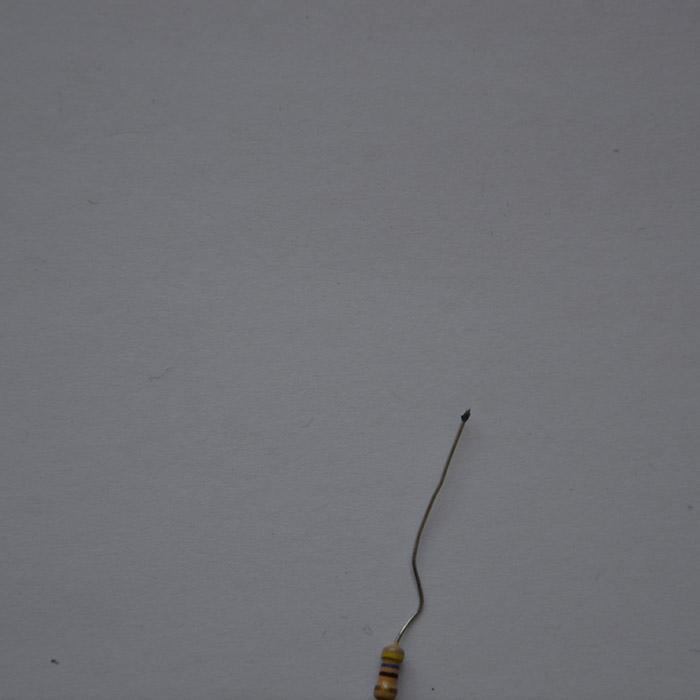resistor: (0, 372, 57, 404)
